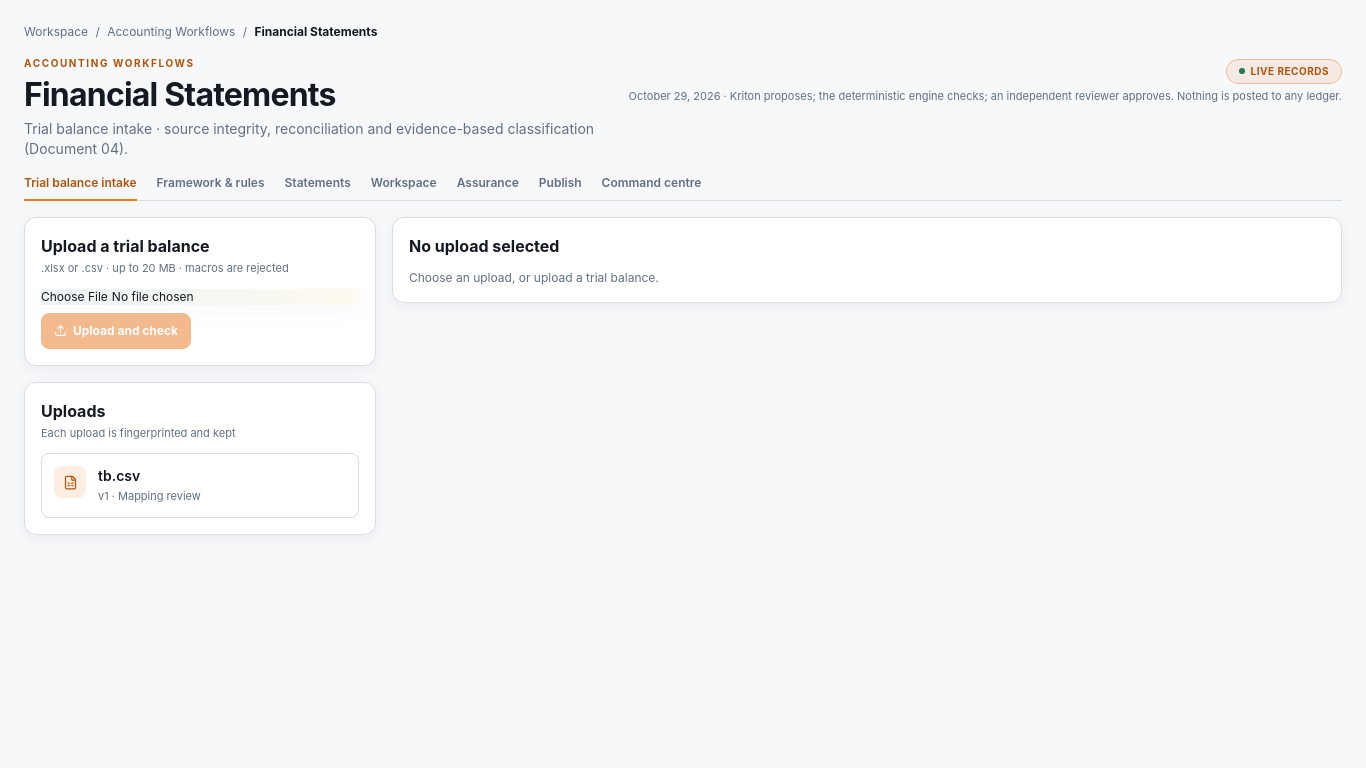
Test case: Financial Statements — trial balance intake › shows the checks, findings and that a balanced TB proves the arithmetic only
What coordinates should you click on to do the following:
click the button "tb.csv v1 · Mapping review"
I would click on:
 (70, 482)
Its box is [42, 454, 358, 516].
(page scrolled)
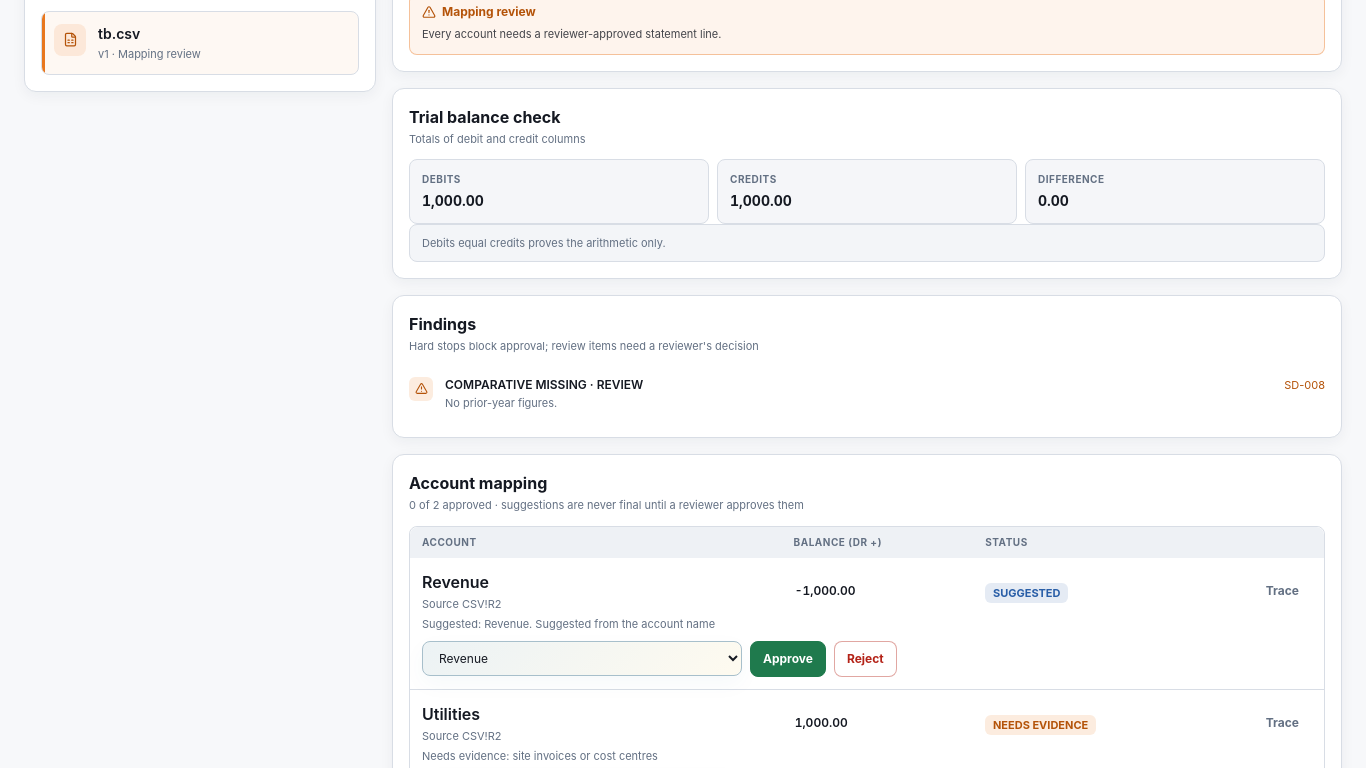
Check: the heading "Account mapping" is shown, box [409, 473, 547, 493]
Check: the text "Mapping review" is shown, box [422, 4, 536, 19]
Check: the text "Debits equal credits proves the arithmetic only." is shown, box [409, 224, 1325, 262]
